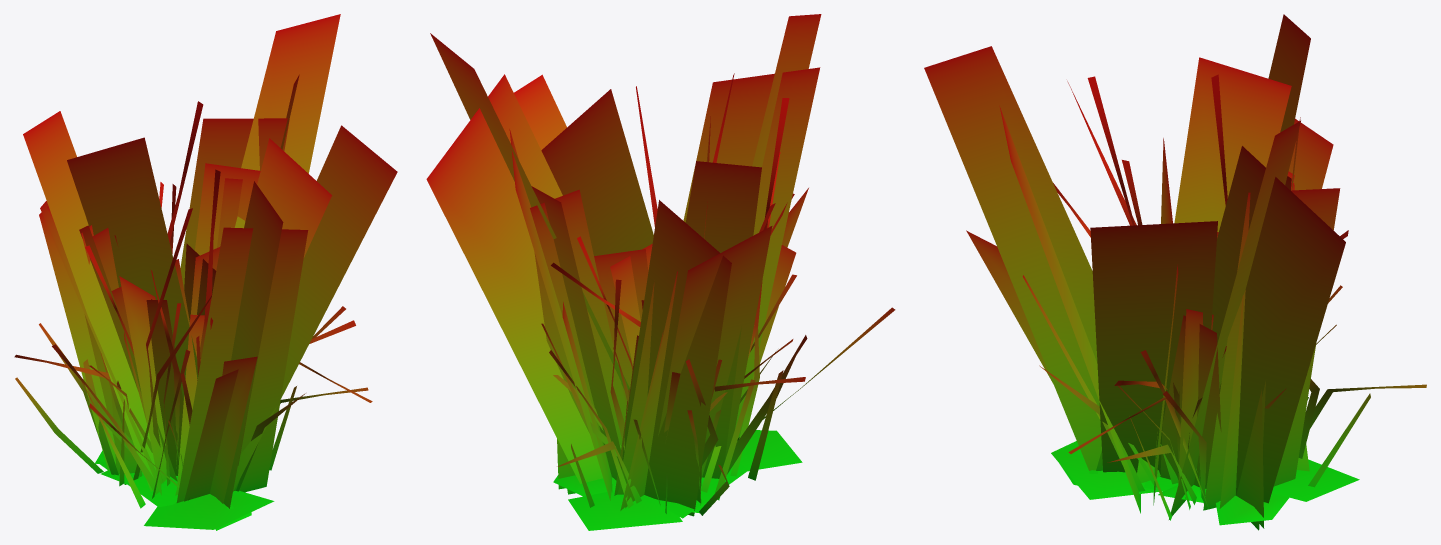
The model's file is ThatchLOD1.fbx.
3 views of the same model, side by side, from view 1: azimuth 30°, elevation 25°; view 2: azimuth 150°, elevation 25°; view 3: azimuth 270°, elevation 25° (orthographic). The views are drawn at different scales.
Parts seen in each view (by area): view 1: _6100_Var3_LOD3; view 2: _6100_Var3_LOD3; view 3: _6100_Var3_LOD3.
Boxes of the visible parts, <box> form: _6100_Var3_LOD3: <box>14,14,397,530</box>; _6100_Var3_LOD3: <box>426,14,895,530</box>; _6100_Var3_LOD3: <box>924,14,1426,530</box>.
Bounding box in the file's own units: 33.57 × 38.16 × 37.41.
